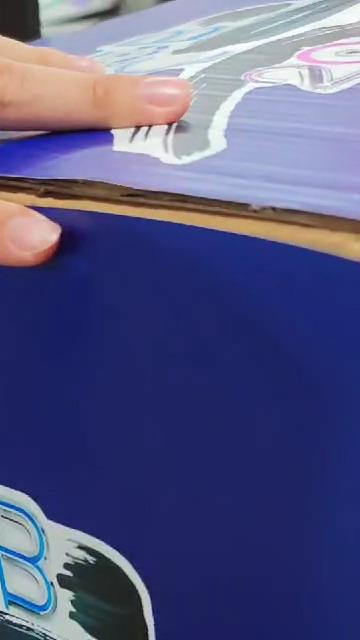B_R1: (0, 383, 318, 640)
